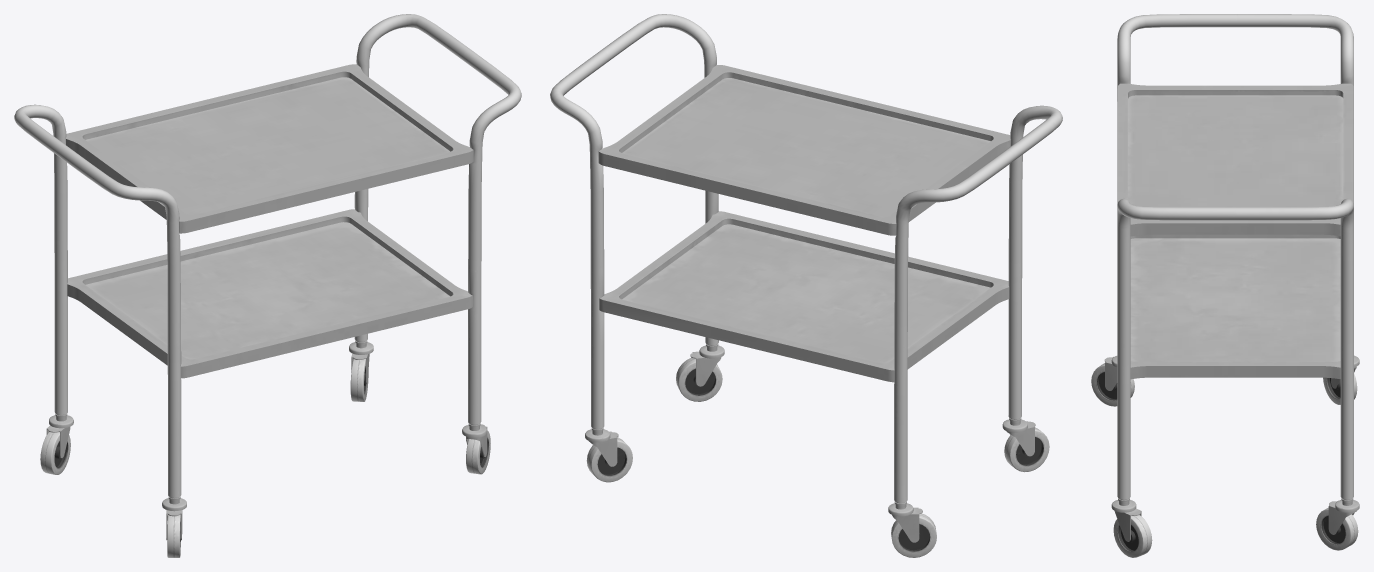
File: trolley.glb
3 views of the same model, side by side, from view 1: azimuth 30°, elevation 25°; view 2: azimuth 150°, elevation 25°; view 3: azimuth 270°, elevation 25° (orthographic). The views are drawn at different scales.
Parts seen in each view (by area): view 1: Trolley_Trolley_0; view 2: Trolley_Trolley_0; view 3: Trolley_Trolley_0.
Part boxes in pixels (box(x1,y1,x2,y2)): Trolley_Trolley_0: box(14, 14, 521, 557); Trolley_Trolley_0: box(550, 14, 1062, 557); Trolley_Trolley_0: box(1091, 14, 1359, 557).
Bounding box in the file's own units: 1.06 × 0.9138 × 0.6044.
Materials: 1 (1 with a texture image).
